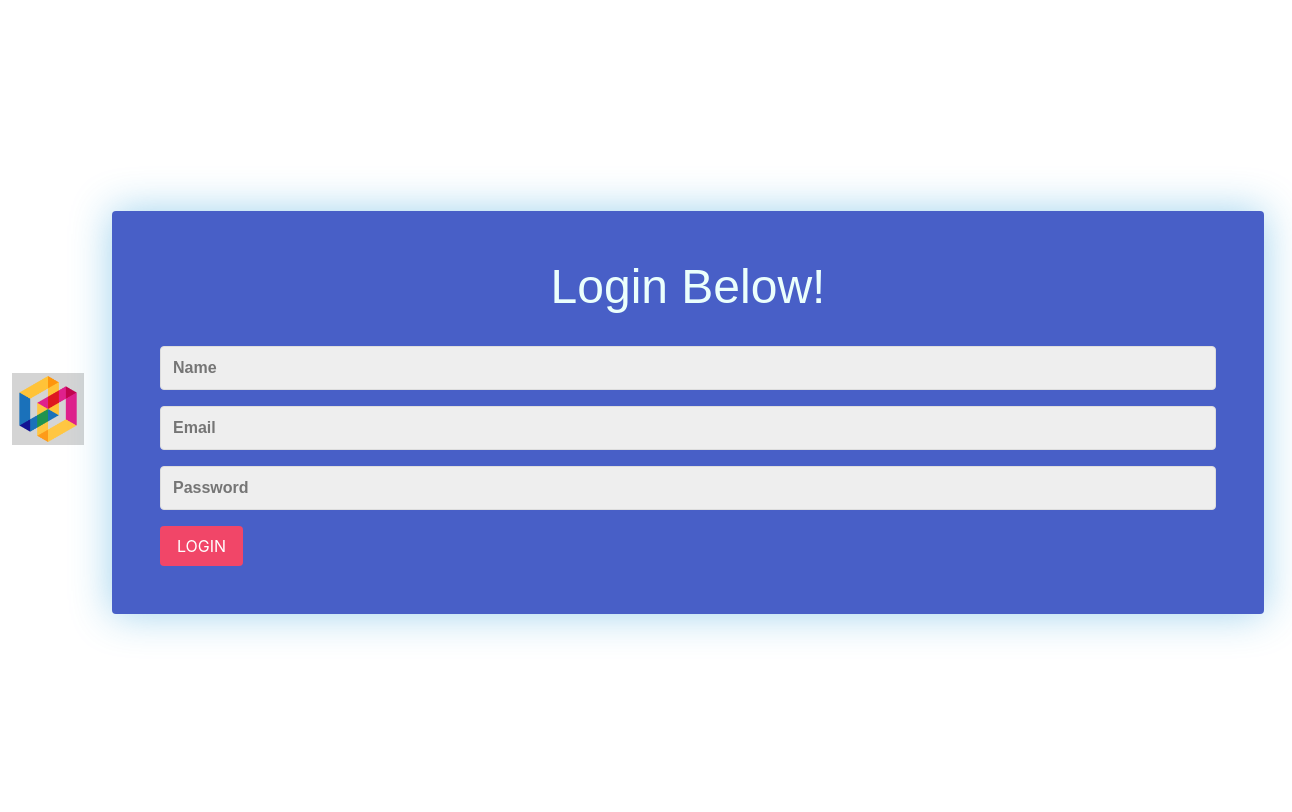
Test: Login Rendering › Correct Login
The image size is (1292, 812).
Check: the form is shown, box [160,258,1216,566]
Type "John Cena" into the field labelled "Name" at x=688, y=368, box [160,346,1216,390]
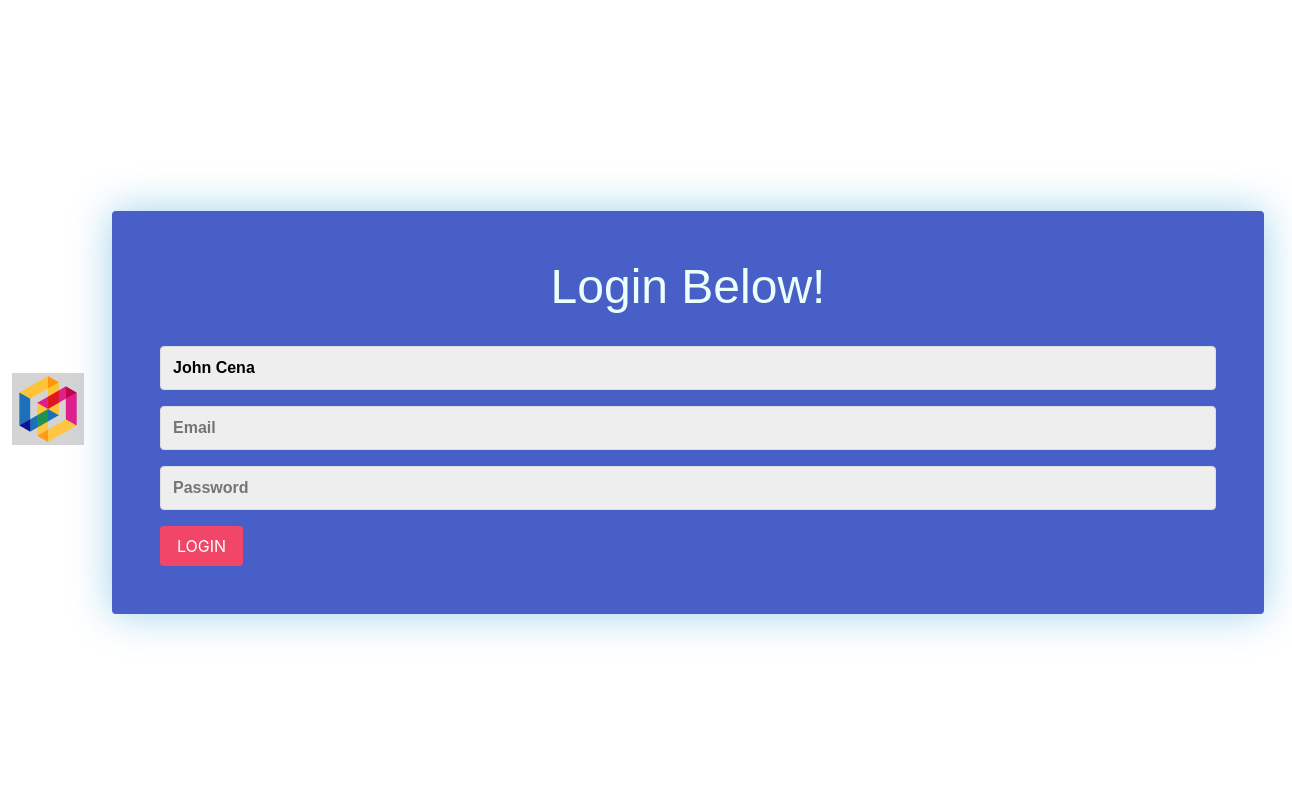
Type "dhiraj2@illinois.edu" into the field labelled "Email" at x=688, y=428, box [160,406,1216,450]
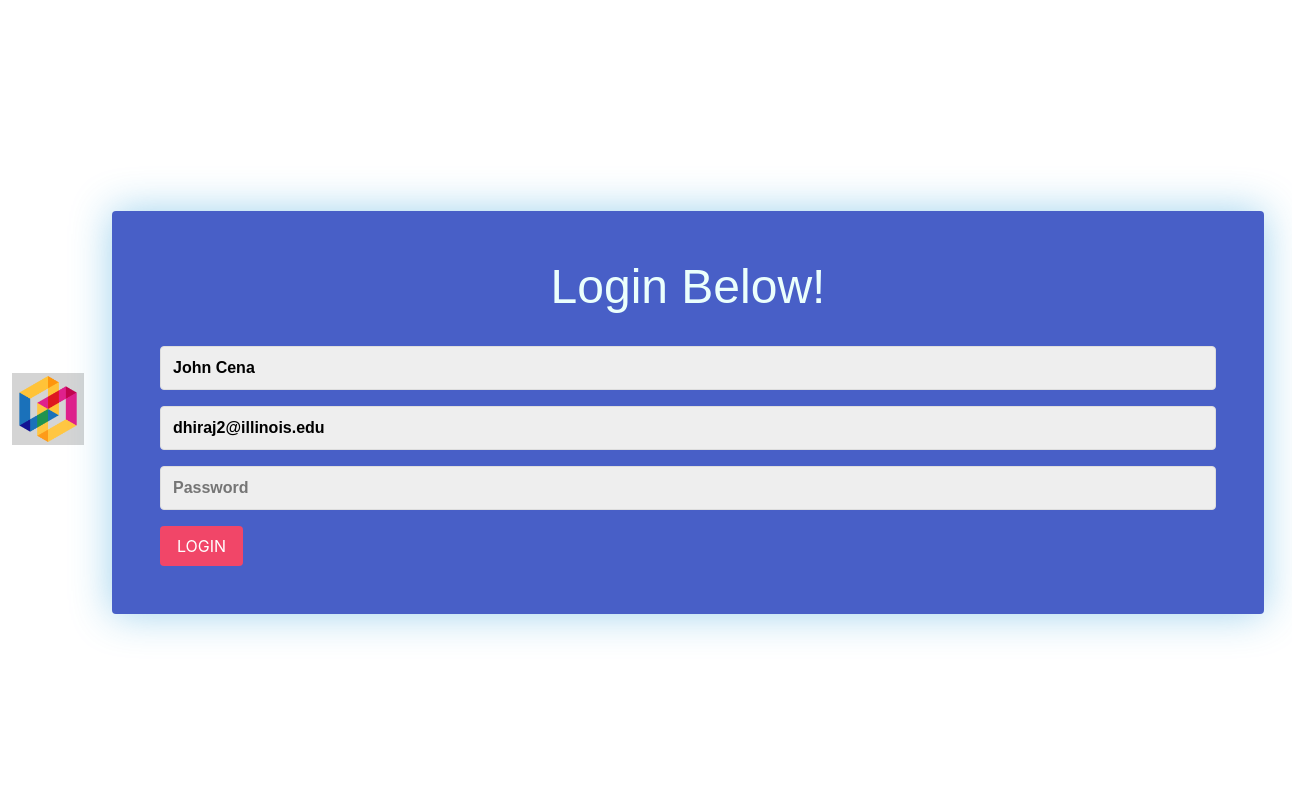
Type "cs222-group85" into the password field labelled "Password" at x=688, y=488, box [160,466,1216,510]
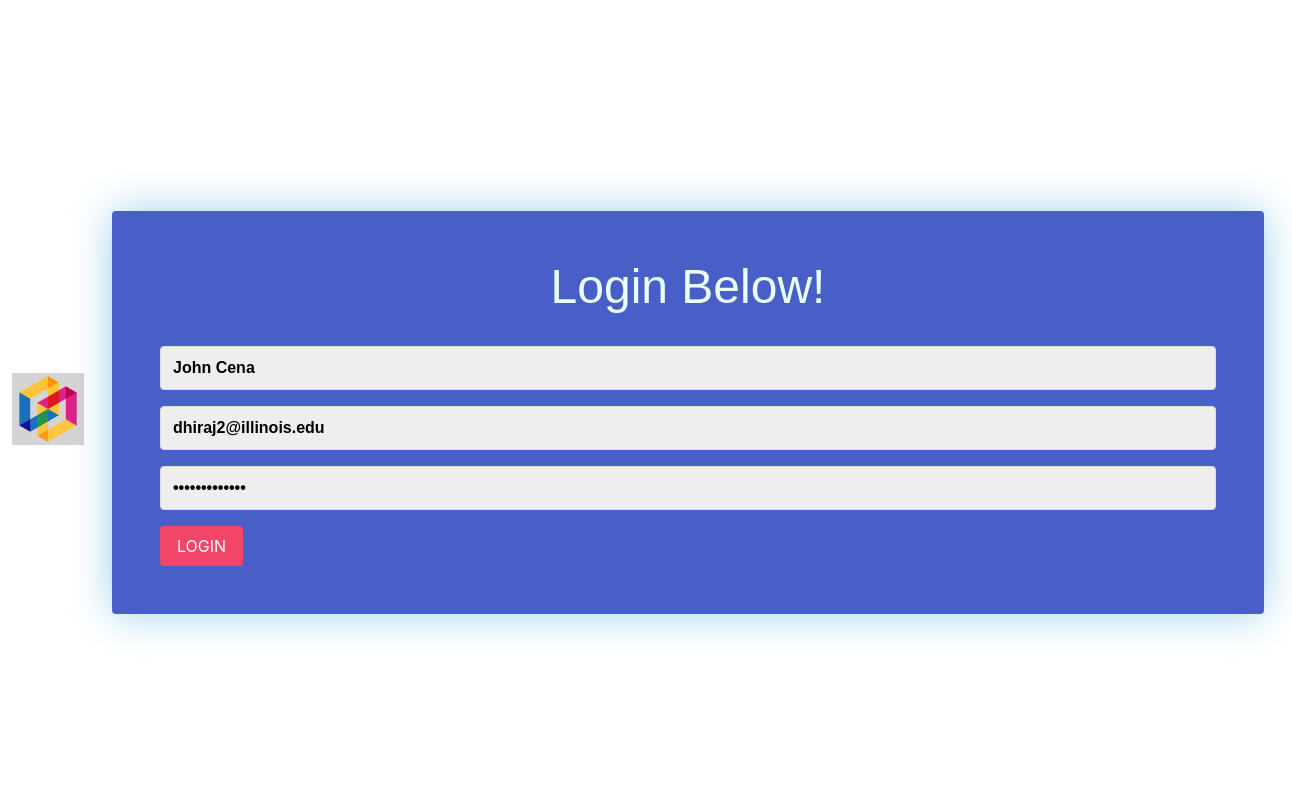
Click the button with aria-label "button" at x=202, y=546, box [160,526,243,566]
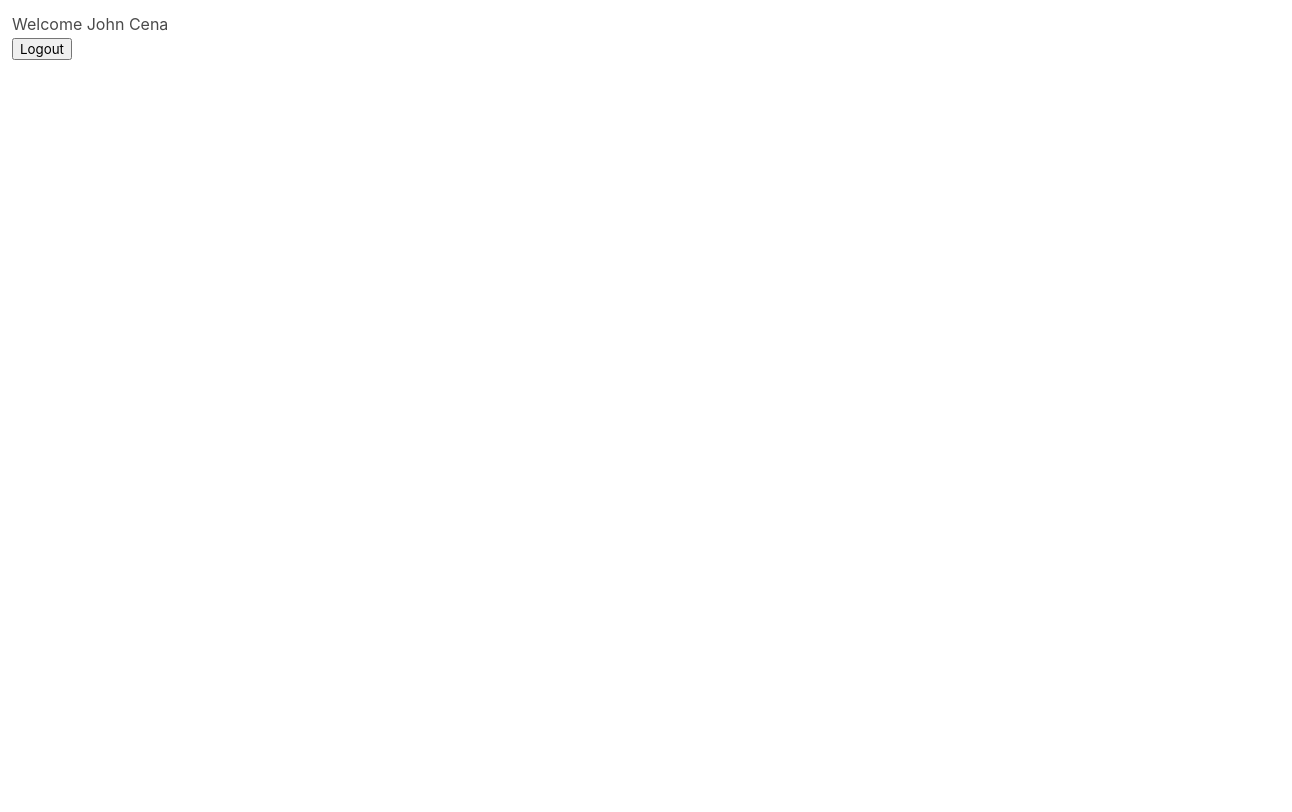
Check: the heading "Welcome John Cena" is shown, box [12,14,168,34]
